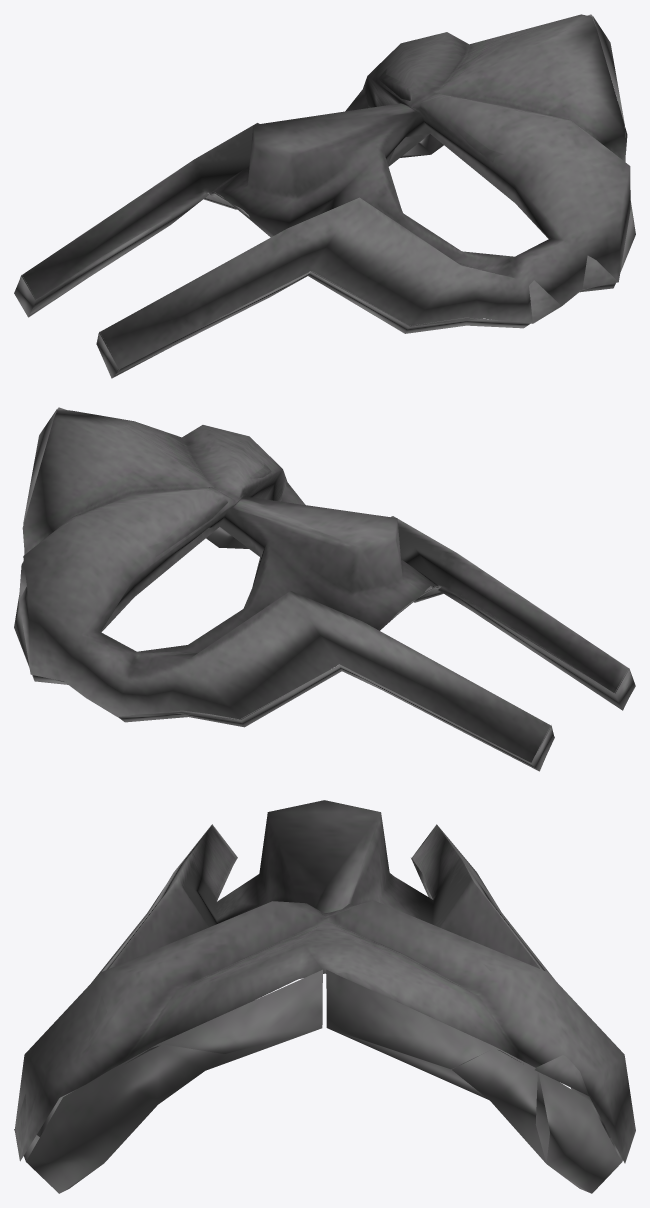
File: MFDoom_Ground.fbx
The picture shows the model from 3 angles, top to bottom: view 1: azimuth 30°, elevation 25°; view 2: azimuth 150°, elevation 25°; view 3: azimuth 270°, elevation 25°; orthographic projection. The views are drawn at different scales.
Parts seen in each view (by area): view 1: Doom; view 2: Doom; view 3: Doom.
Part boxes in pixels (x1,y1,x2,y2): Doom: [14, 14, 635, 378]; Doom: [14, 407, 635, 771]; Doom: [14, 800, 635, 1193].
Bounding box in the file's own units: 0.1595 × 0.0584 × 0.108.
